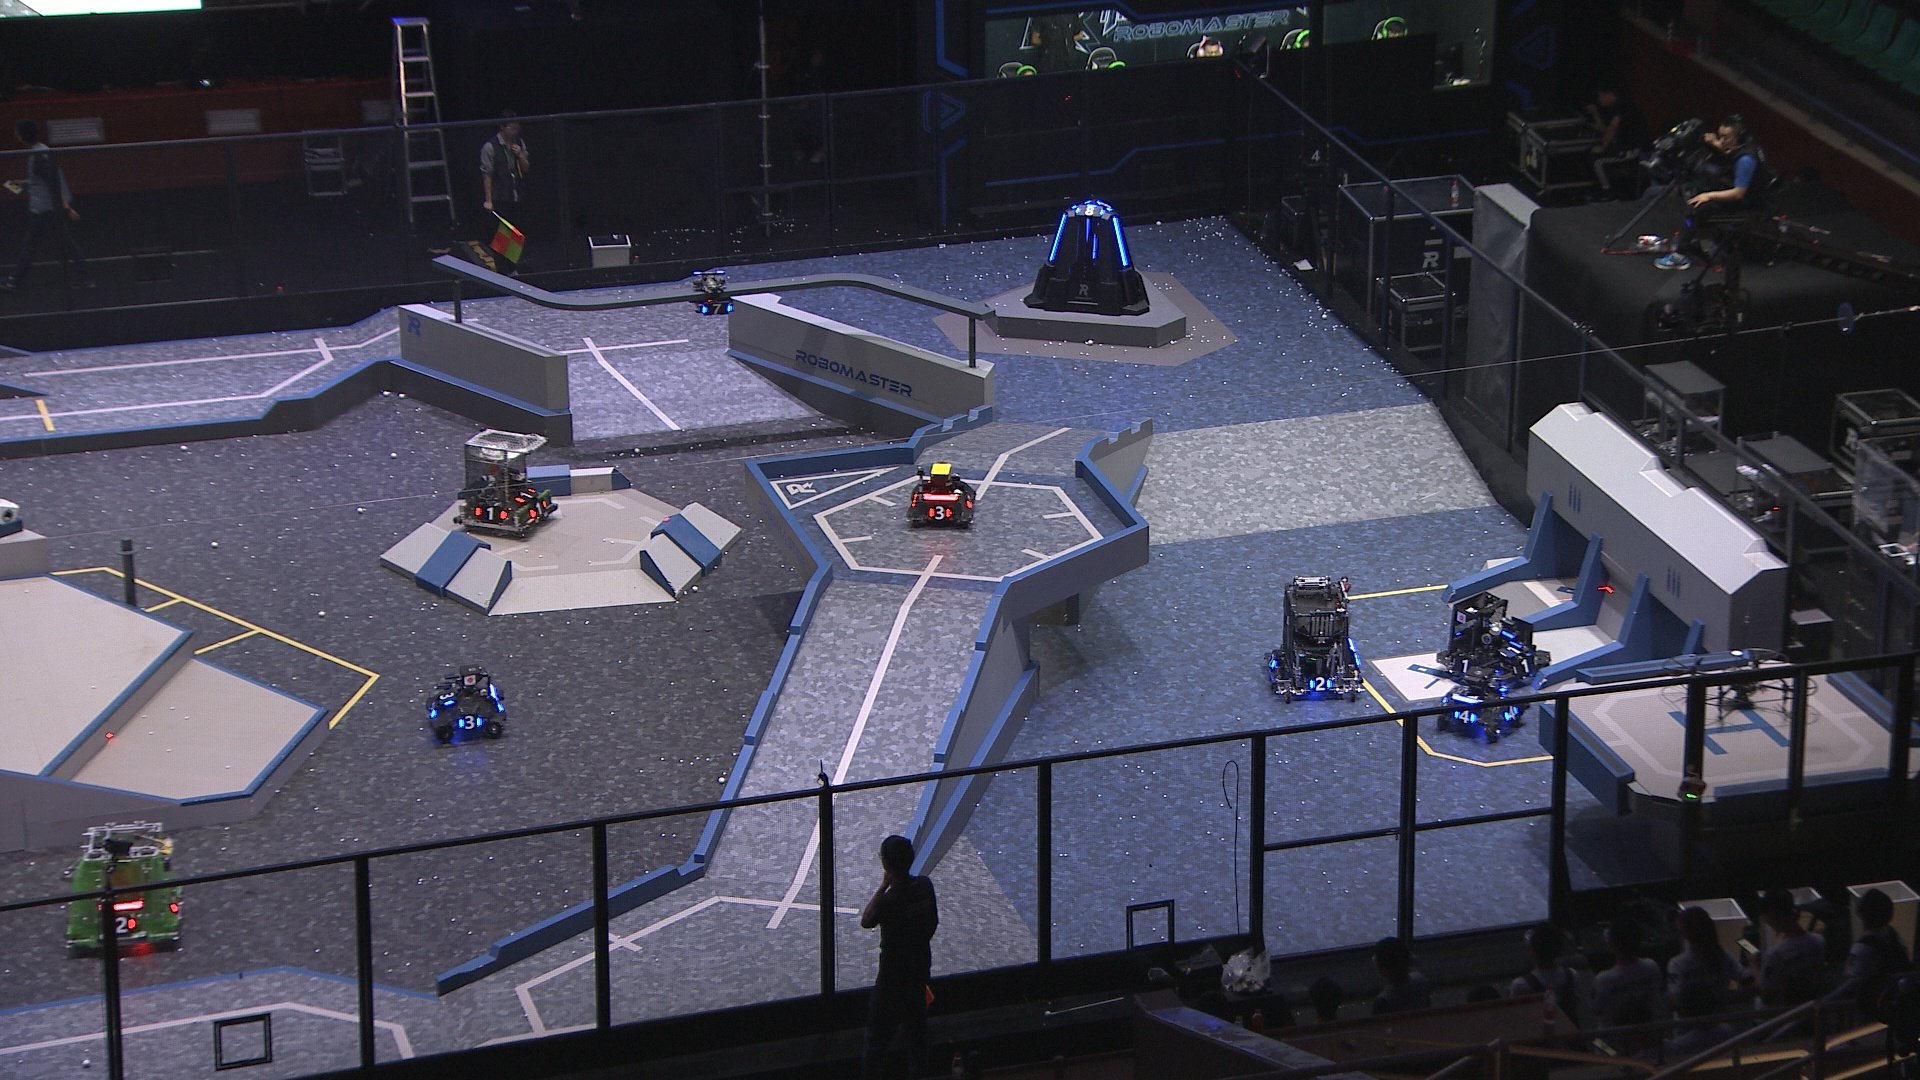armor: (1046, 210, 1069, 262), (1112, 215, 1131, 268), (473, 505, 508, 524), (1495, 638, 1523, 659), (1510, 657, 1539, 676), (700, 301, 732, 316), (924, 502, 953, 520), (1453, 707, 1480, 725), (456, 713, 484, 731), (527, 498, 549, 520), (1501, 702, 1522, 723), (514, 485, 537, 505), (111, 915, 135, 934), (1309, 675, 1335, 692), (1073, 204, 1106, 216), (436, 688, 458, 707), (1455, 657, 1476, 674), (1266, 650, 1280, 670), (1083, 216, 1093, 243), (425, 698, 438, 717)
base: (1025, 200, 1153, 315)
car: (58, 820, 183, 959), (1259, 574, 1366, 699), (1433, 589, 1552, 694), (454, 425, 556, 537), (1436, 669, 1531, 746), (423, 662, 508, 746), (905, 458, 977, 531)
watcher: (688, 270, 735, 320)
